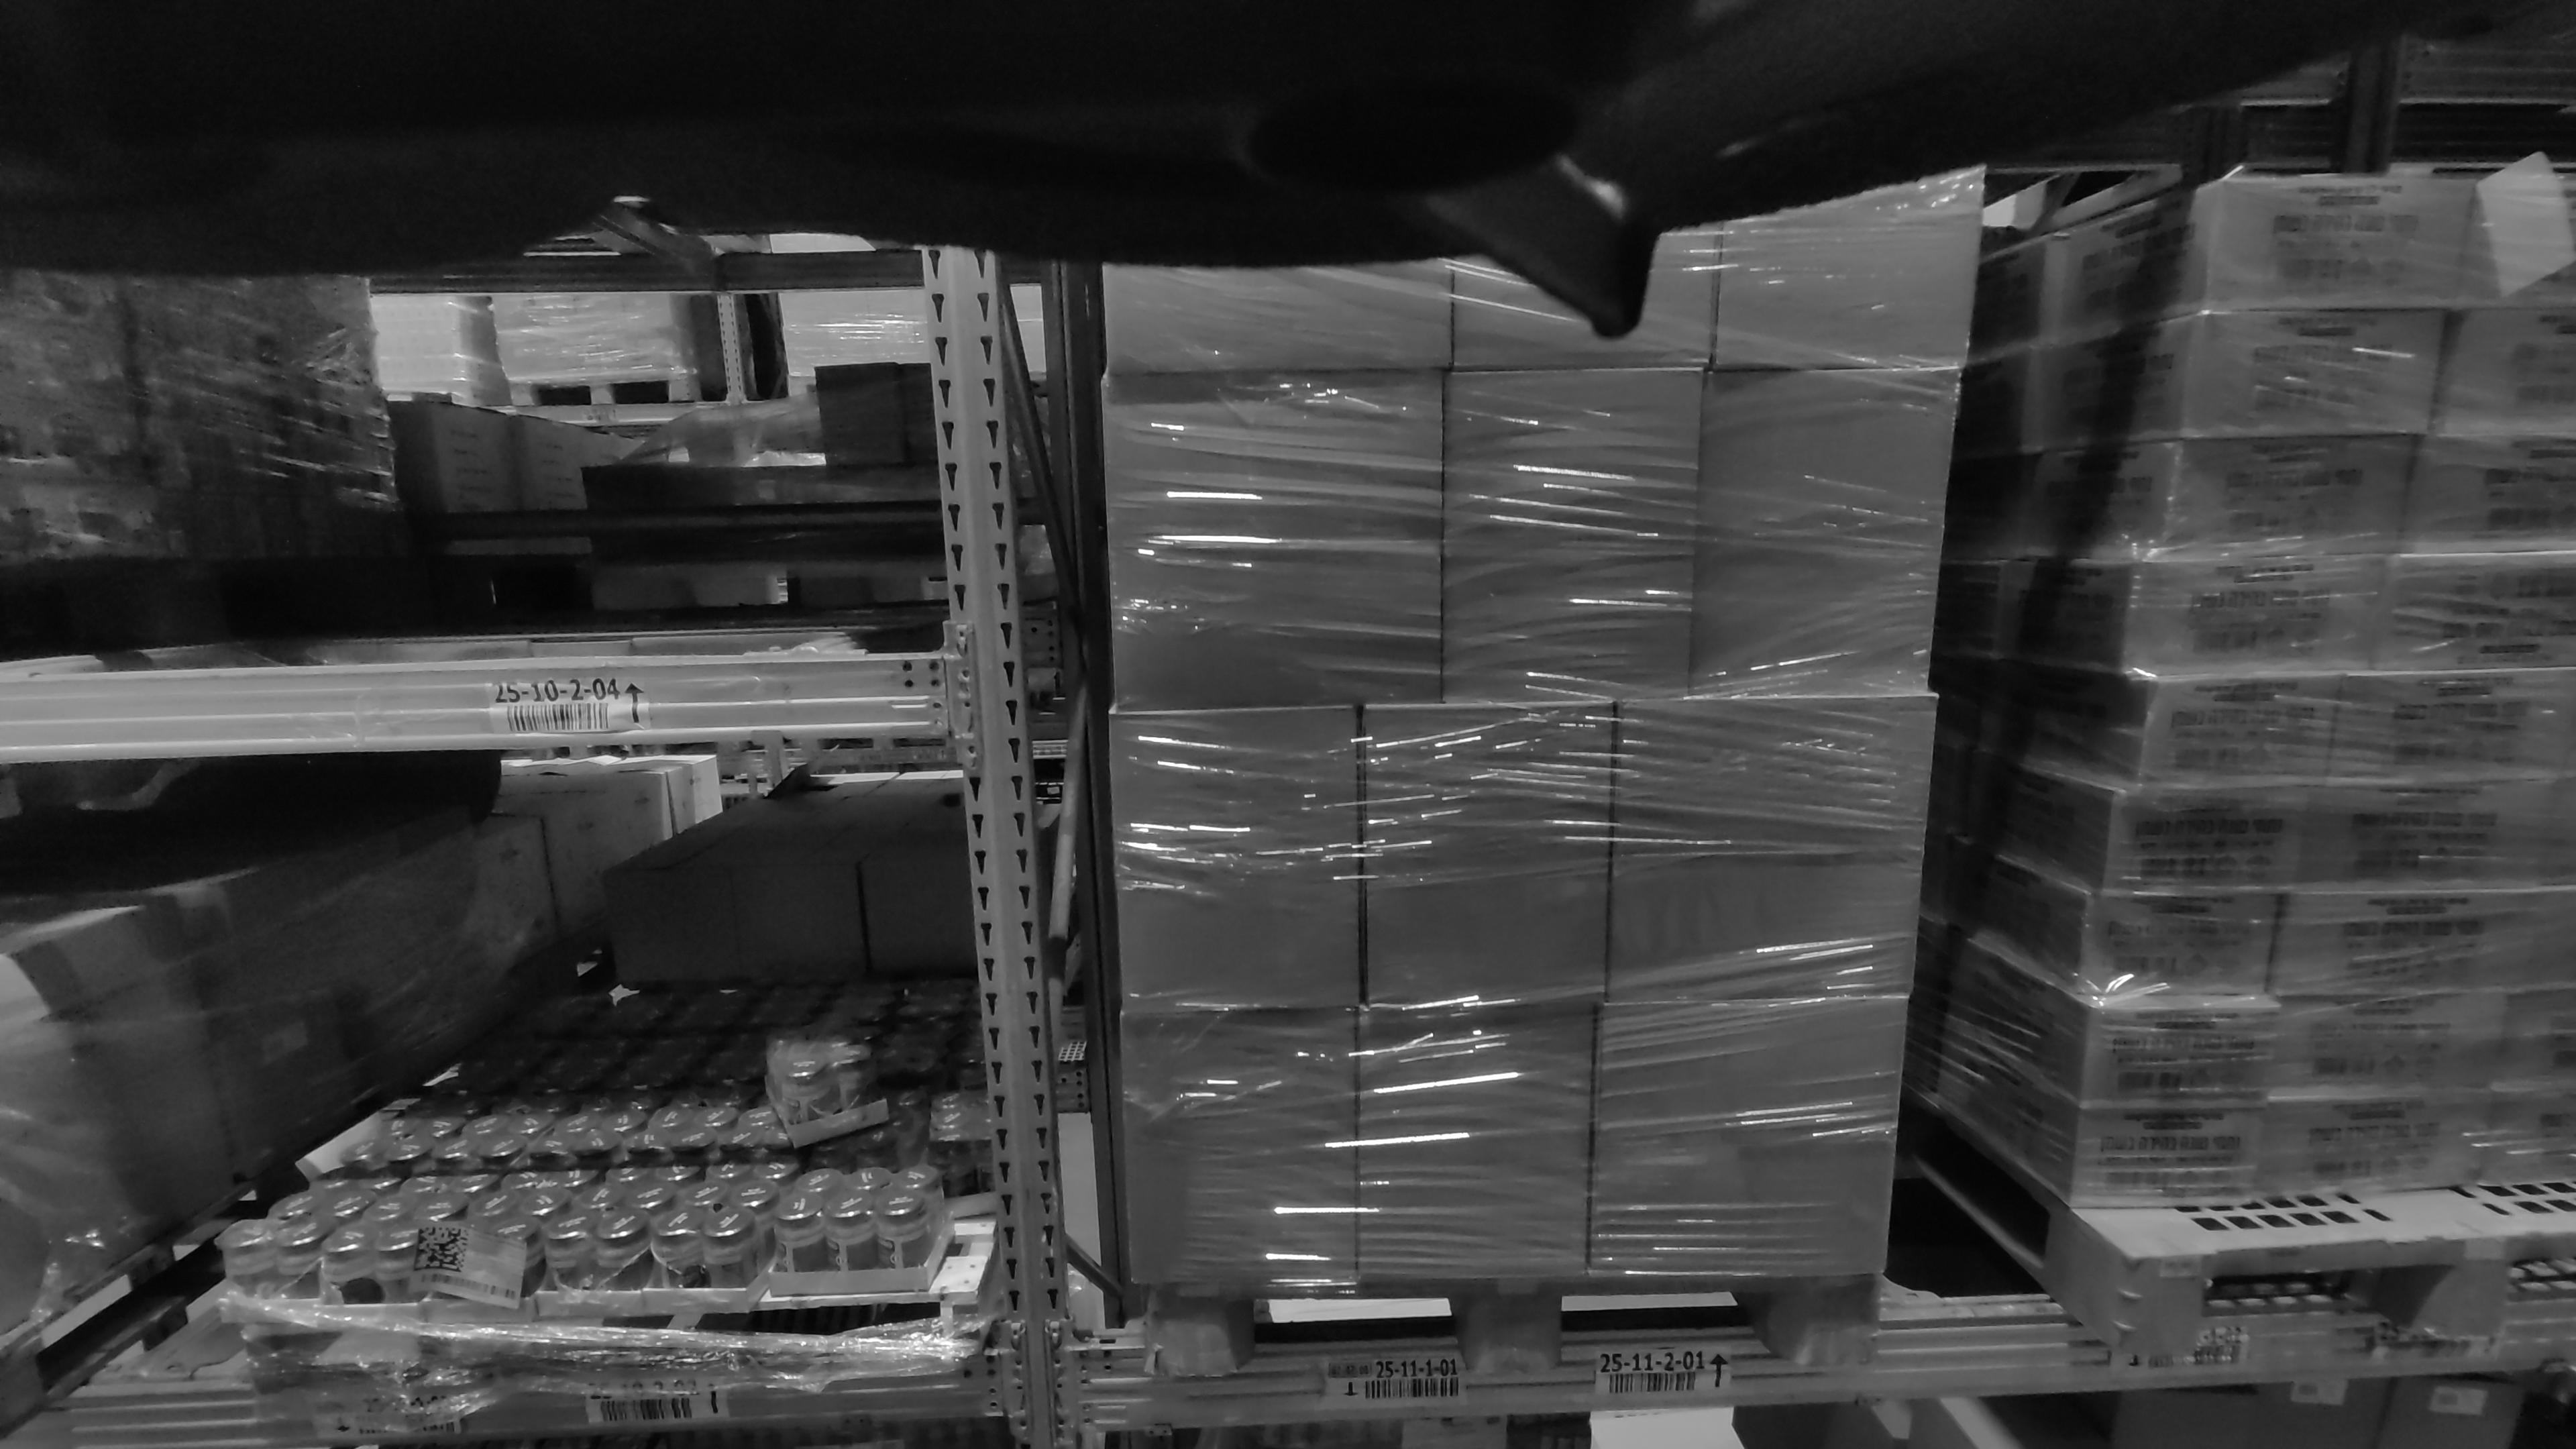empty-shelf: (205, 239, 934, 662)
